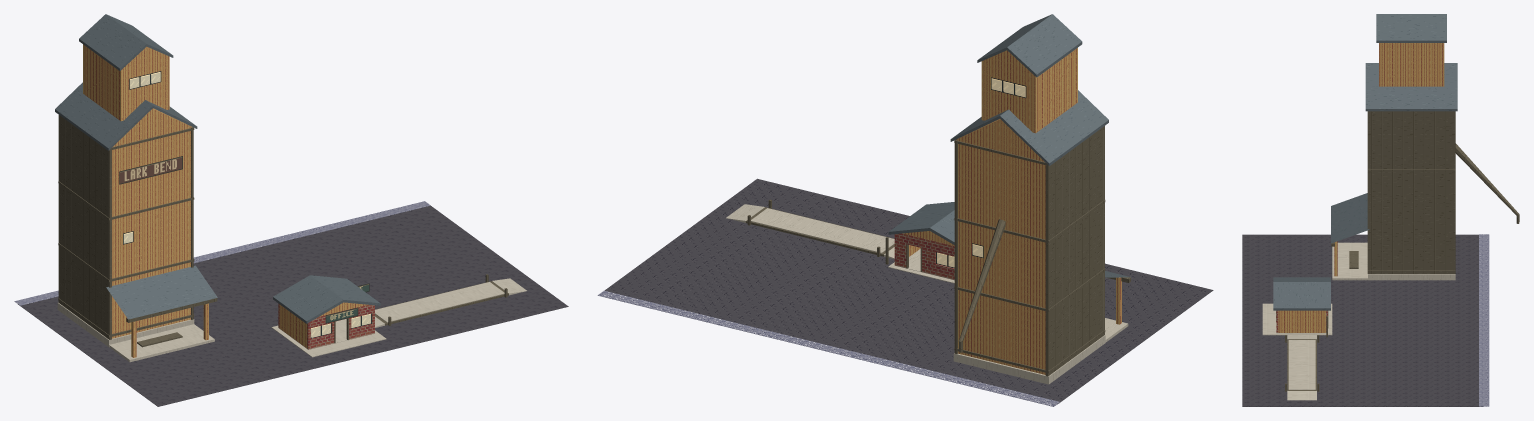
Rendered from lark-bend-1925-mid.glb.
3 renders of one model, left to right at view 1: azimuth 30°, elevation 25°; view 2: azimuth 150°, elevation 25°; view 3: azimuth 270°, elevation 25°, orthographic. The views are drawn at different scales.
Parts seen in each view (by area): view 1: lot, timber_elevator, scale_office, sign_wood; view 2: lot, timber_elevator, scale_office; view 3: lot, timber_elevator, scale_office.
Part boxes in pixels (<box>): lot: <box>14,201,568,406</box>; timber_elevator: <box>55,14,217,362</box>; scale_office: <box>273,275,380,349</box>; sign_wood: <box>119,156,182,184</box>; lot: <box>597,178,1213,406</box>; timber_elevator: <box>950,14,1130,384</box>; scale_office: <box>888,202,954,280</box>; lot: <box>1242,234,1489,406</box>; timber_elevator: <box>1331,14,1519,280</box>; scale_office: <box>1273,277,1330,333</box>.
Size of what is drawn, in the model's own units: 48 by 32.35 by 32.68.
9 materials, 9 textured.
